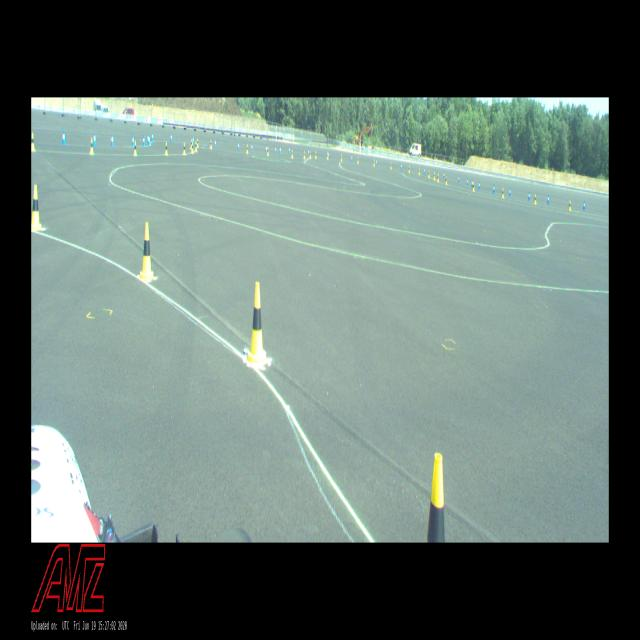blue_cone: (61, 130, 66, 144), (93, 133, 97, 145), (111, 134, 114, 146), (214, 139, 217, 148), (148, 134, 150, 146), (132, 135, 134, 147), (192, 136, 195, 144), (143, 135, 145, 146), (547, 195, 549, 204), (170, 133, 172, 142), (492, 184, 494, 193), (251, 143, 253, 152), (152, 132, 154, 141), (528, 192, 530, 200), (275, 146, 277, 154), (238, 142, 240, 150), (583, 201, 585, 209), (509, 188, 511, 196), (458, 175, 460, 182), (478, 182, 480, 189), (443, 172, 445, 178), (147, 134, 148, 143), (266, 145, 267, 153), (467, 178, 468, 186), (280, 146, 281, 153), (308, 149, 309, 156), (376, 159, 377, 166), (424, 168, 425, 174), (401, 164, 402, 170), (289, 147, 290, 153), (352, 155, 352, 162), (472, 180, 472, 188)
yellow_cone: (247, 282, 267, 364), (427, 453, 445, 542), (139, 223, 154, 281), (31, 185, 41, 230), (32, 133, 36, 151), (90, 138, 94, 154), (134, 141, 138, 155), (165, 142, 168, 155), (183, 142, 186, 154), (195, 141, 197, 152), (192, 142, 194, 153), (534, 194, 536, 204), (197, 138, 199, 148), (246, 144, 248, 154), (569, 200, 571, 210), (472, 181, 474, 191), (190, 139, 192, 149), (292, 149, 294, 158), (502, 188, 504, 197), (210, 140, 212, 148), (304, 151, 306, 159), (433, 172, 435, 180), (428, 170, 430, 178), (267, 147, 269, 155), (357, 156, 359, 164), (445, 176, 447, 184), (309, 151, 311, 158), (418, 168, 420, 175), (408, 165, 410, 172), (373, 160, 375, 167), (390, 162, 392, 169), (437, 174, 439, 181), (315, 152, 317, 158), (327, 152, 328, 160), (341, 154, 342, 161)
